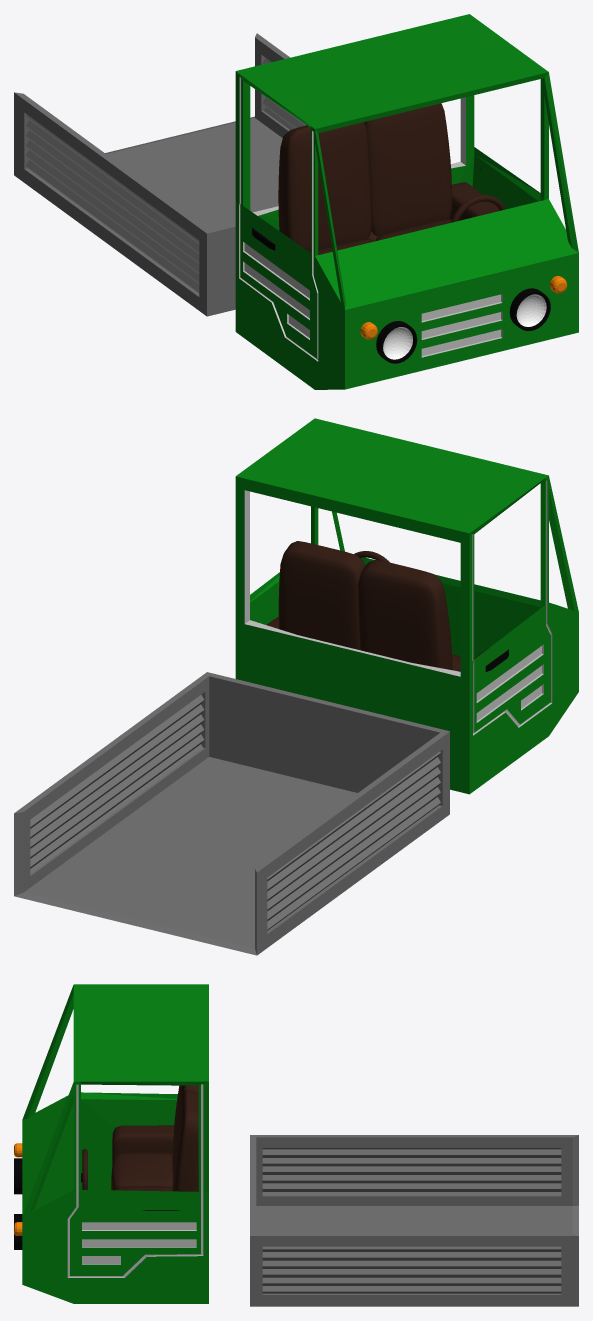
3 views of the same model, one above another, from view 1: azimuth 30°, elevation 25°; view 2: azimuth 150°, elevation 25°; view 3: azimuth 270°, elevation 25° (orthographic). The views are drawn at different scales.
Parts seen in each view (by area): view 1: korba_Cylinder.002; view 2: korba_Cylinder.002; view 3: korba_Cylinder.002.
Boxes of the visible parts, box(x1,y1,x2,y2) form: korba_Cylinder.002: box(14, 14, 578, 389); korba_Cylinder.002: box(14, 418, 578, 955); korba_Cylinder.002: box(14, 984, 578, 1306).
Size of the model in its own units: 1.24 by 1.28 by 2.93.
